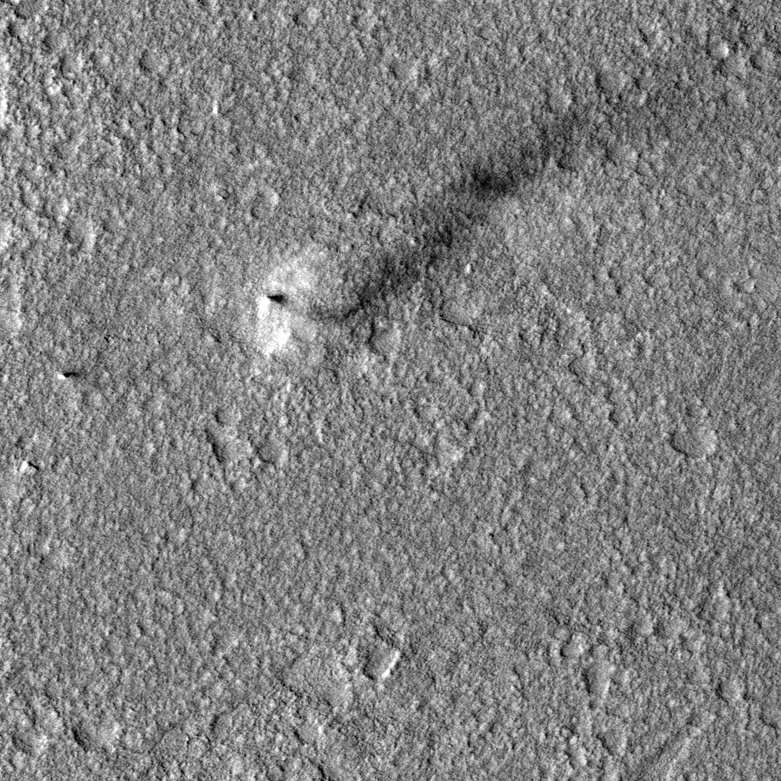dust_devil: (253, 111, 599, 360)
